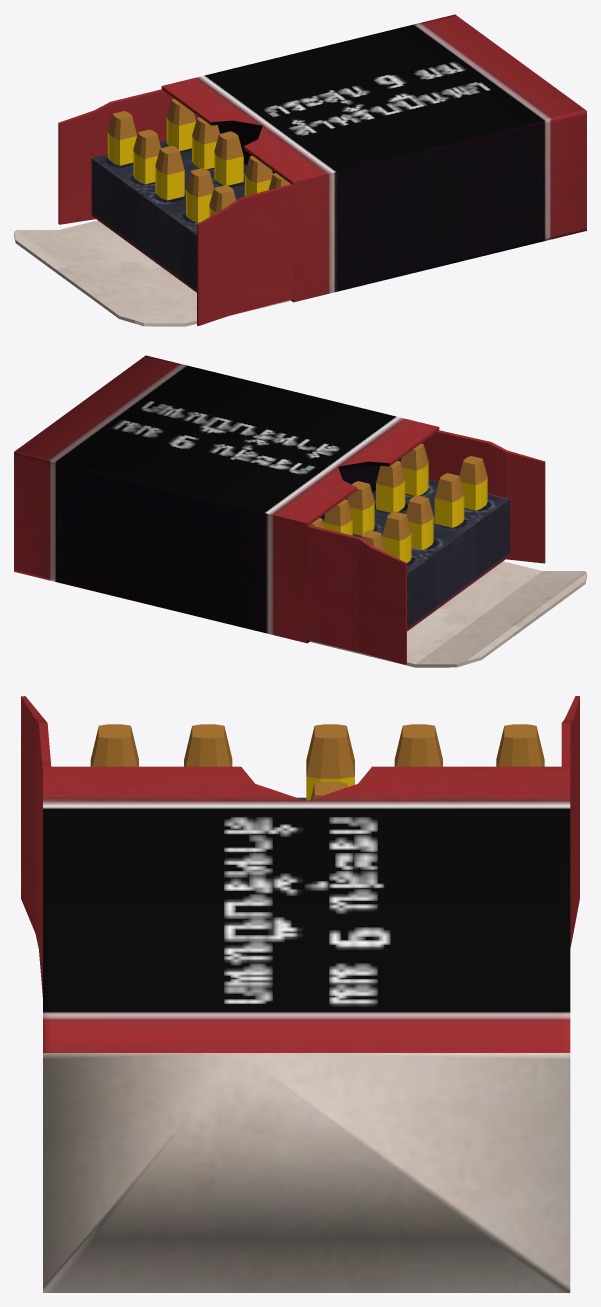
Rendered from Ammo_9mm.fbx.
3 views of the same model, one above another, from view 1: azimuth 30°, elevation 25°; view 2: azimuth 150°, elevation 25°; view 3: azimuth 270°, elevation 25° (orthographic). The views are drawn at different scales.
Visible parts, largest first — view 1: Box, Cube.005, Cube; view 2: Box, Cube.005, Cube; view 3: Box, Cube.005.
Part boxes in pixels (box(x1,y1,x2,y2)): Box: box(14, 14, 586, 326); Cube.005: box(107, 98, 290, 222); Cube: box(91, 140, 246, 292); Box: box(14, 355, 586, 667); Cube.005: box(310, 443, 487, 562); Cube: box(352, 479, 509, 631); Box: box(21, 696, 579, 1292); Cube.005: box(90, 724, 544, 800).
Size of the model in its own units: 357 by 90.31 by 191.
